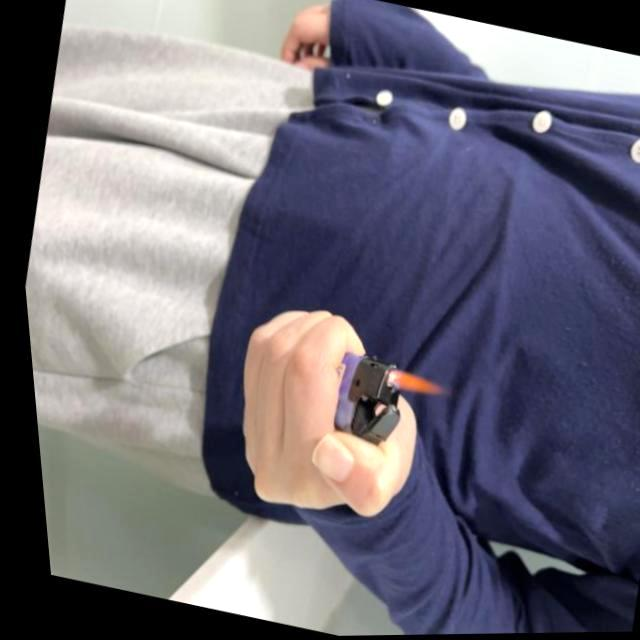fire: (376, 366, 444, 400)
